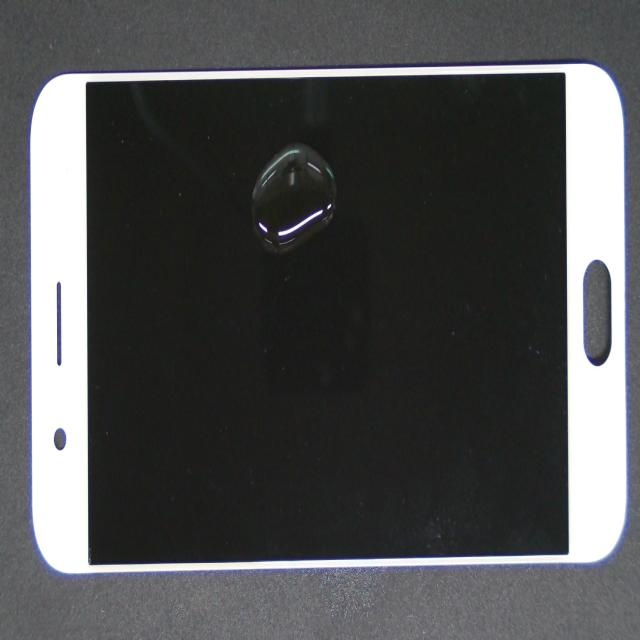oil: (174, 120, 503, 290)
